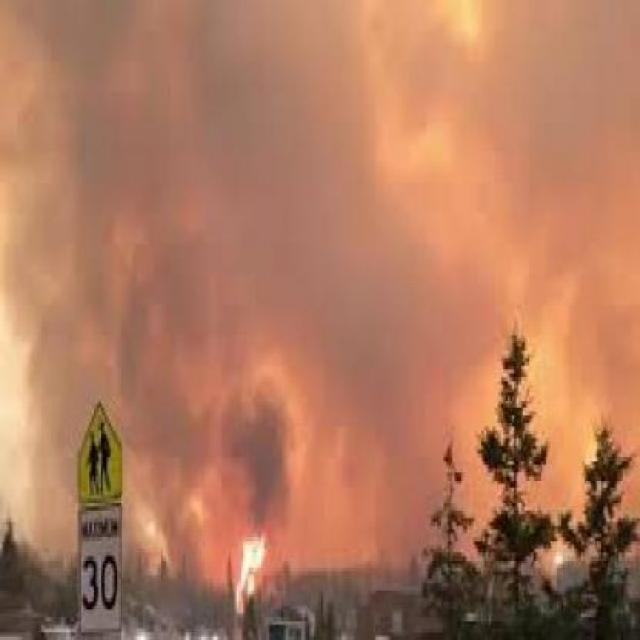Fire: (208, 518, 284, 638)
Smoke: (4, 0, 504, 387)
